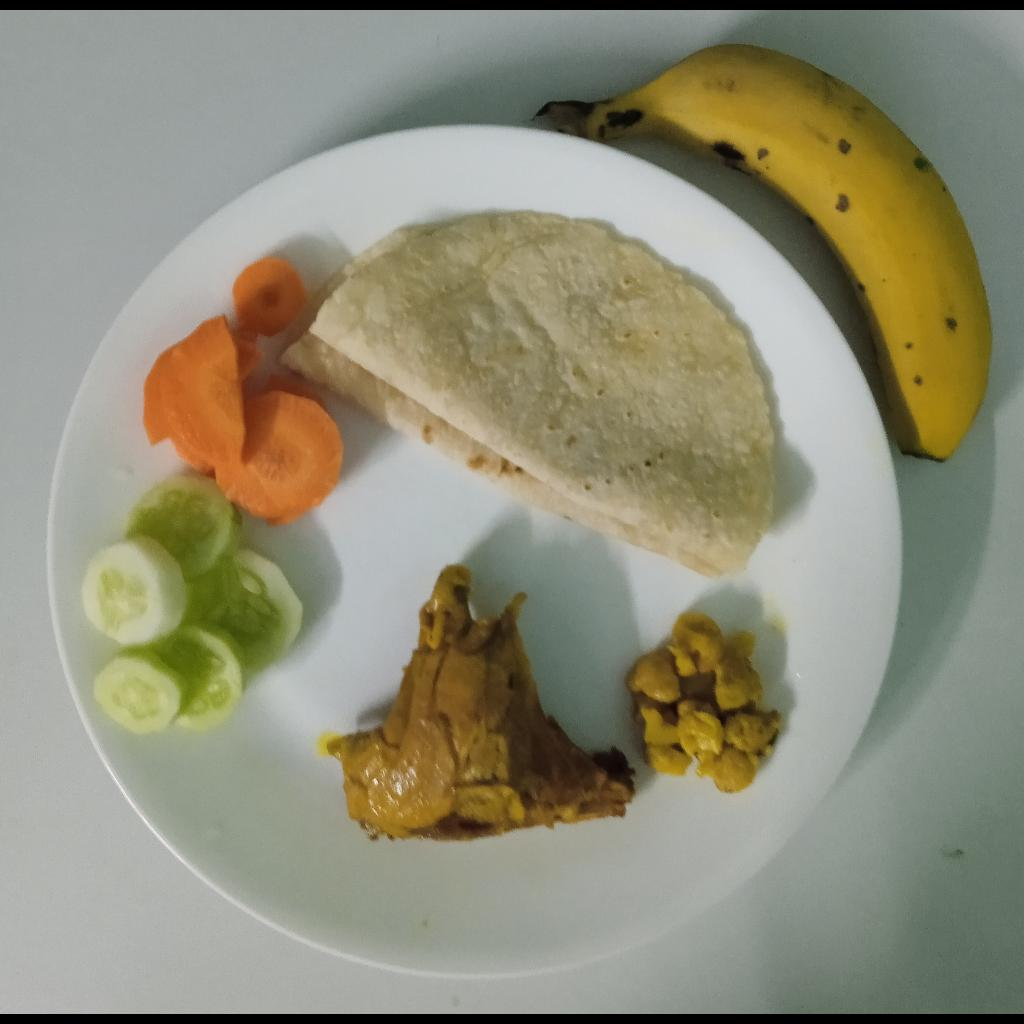banana: (526, 45, 989, 464)
carrot: (143, 257, 344, 528)
cauliflower: (626, 613, 781, 796)
chicken: (322, 563, 628, 843)
cucumber: (82, 474, 304, 736)
ruti: (281, 213, 774, 580)
